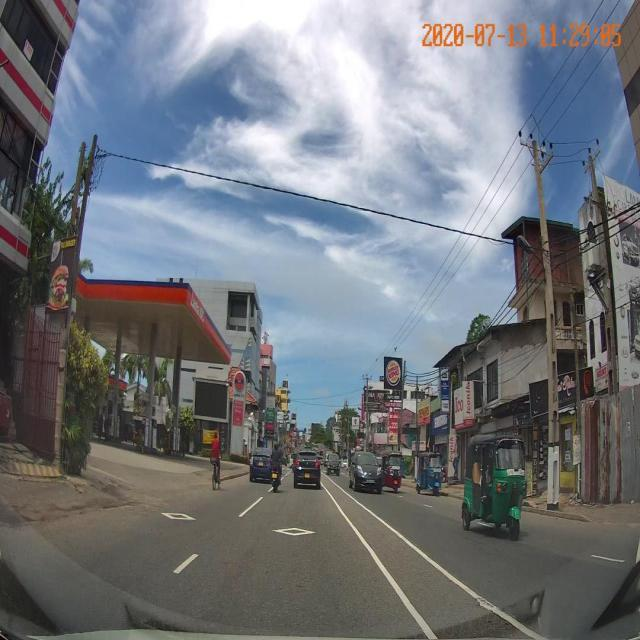Liniya 1: (331, 480, 550, 640), (321, 480, 438, 639), (172, 552, 200, 574), (238, 497, 264, 518), (589, 554, 626, 565), (267, 487, 273, 492)
Romb: (273, 525, 315, 537), (161, 512, 194, 520)
